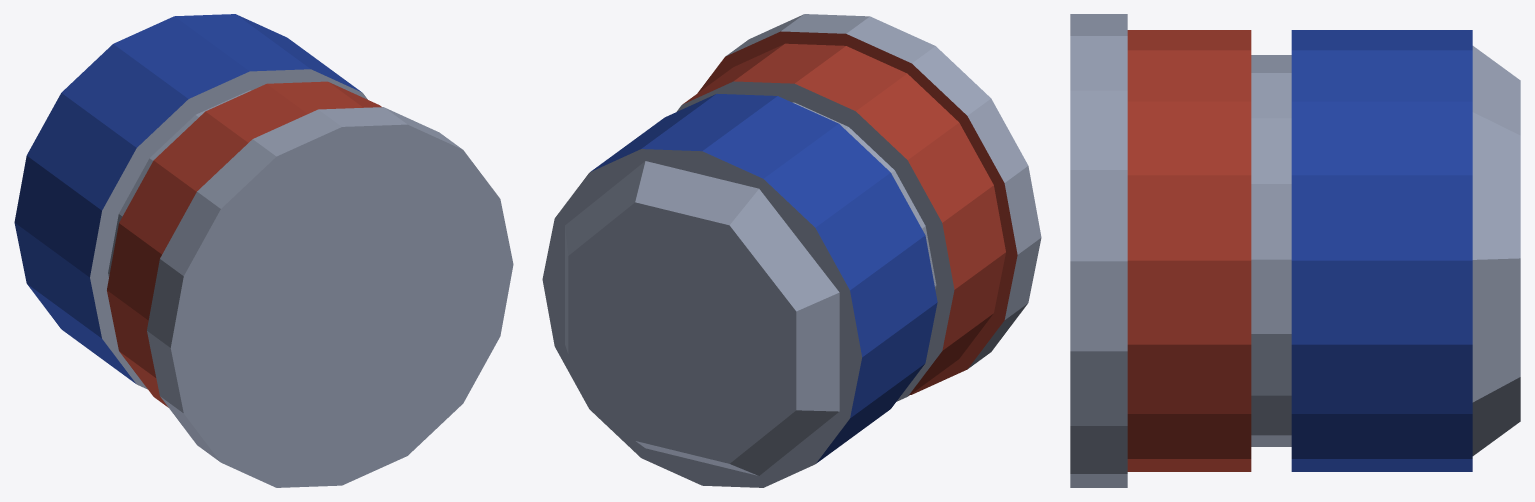
File: SM_MagneticBullet.fbx
3 views of the same model, side by side, from view 1: azimuth 30°, elevation 25°; view 2: azimuth 150°, elevation 25°; view 3: azimuth 270°, elevation 25° (orthographic). The views are drawn at different scales.
Parts seen in each view (by area): view 1: 柱体.067; view 2: 柱体.067; view 3: 柱体.067.
Part boxes in pixels (x1,y1,x2,y2): 柱体.067: (14,14,513,487); 柱体.067: (542,14,1041,487); 柱体.067: (1070,14,1520,487).
Size of the model in its own units: 20.1 by 19.07 by 20.1.
